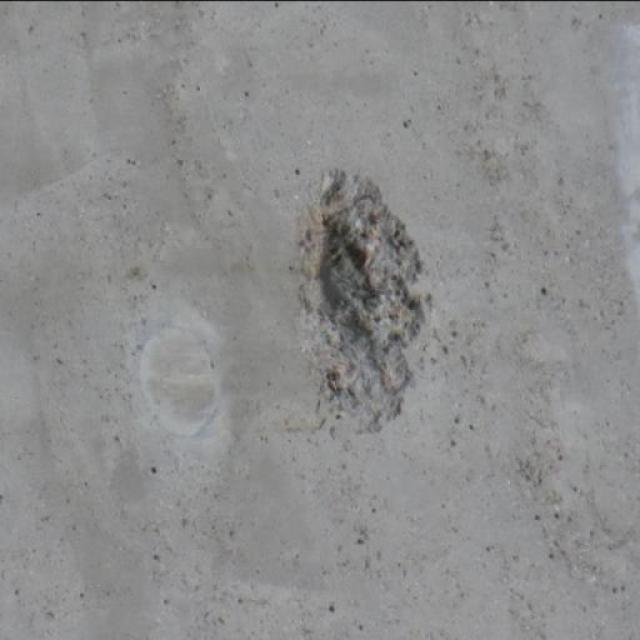D10: (312, 169, 429, 428)
